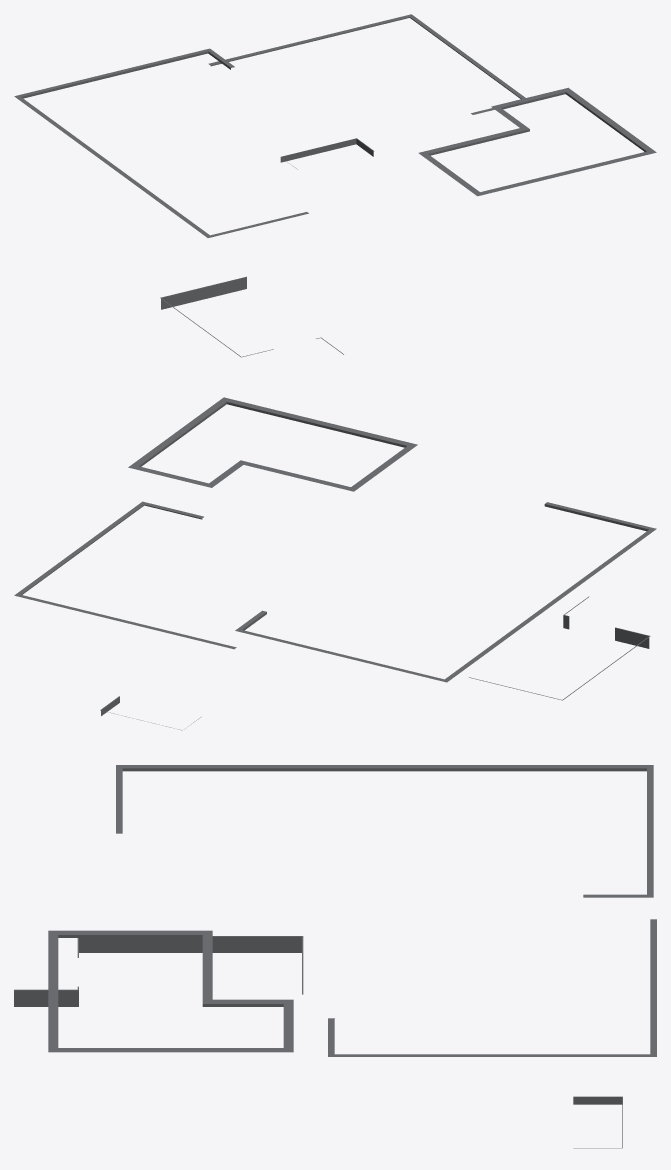
File: kd_stage_135d18_4_98.glb
3 renders of one model, top to bottom at view 1: azimuth 30°, elevation 25°; view 2: azimuth 150°, elevation 25°; view 3: azimuth 270°, elevation 25°, orthographic. The views are drawn at different scales.
Parts seen in each view (by area): view 1: kd_stage_135d18_4_98; view 2: kd_stage_135d18_4_98; view 3: kd_stage_135d18_4_98.
Part boxes in pixels (left/top/right/bottom): kd_stage_135d18_4_98: left=14, top=14, right=656, bottom=357; kd_stage_135d18_4_98: left=14, top=397, right=656, bottom=730; kd_stage_135d18_4_98: left=14, top=765, right=656, bottom=1148.
Size of the model in its own units: 10.05 by 2.84 by 9.51.
1 material, 1 textured.
